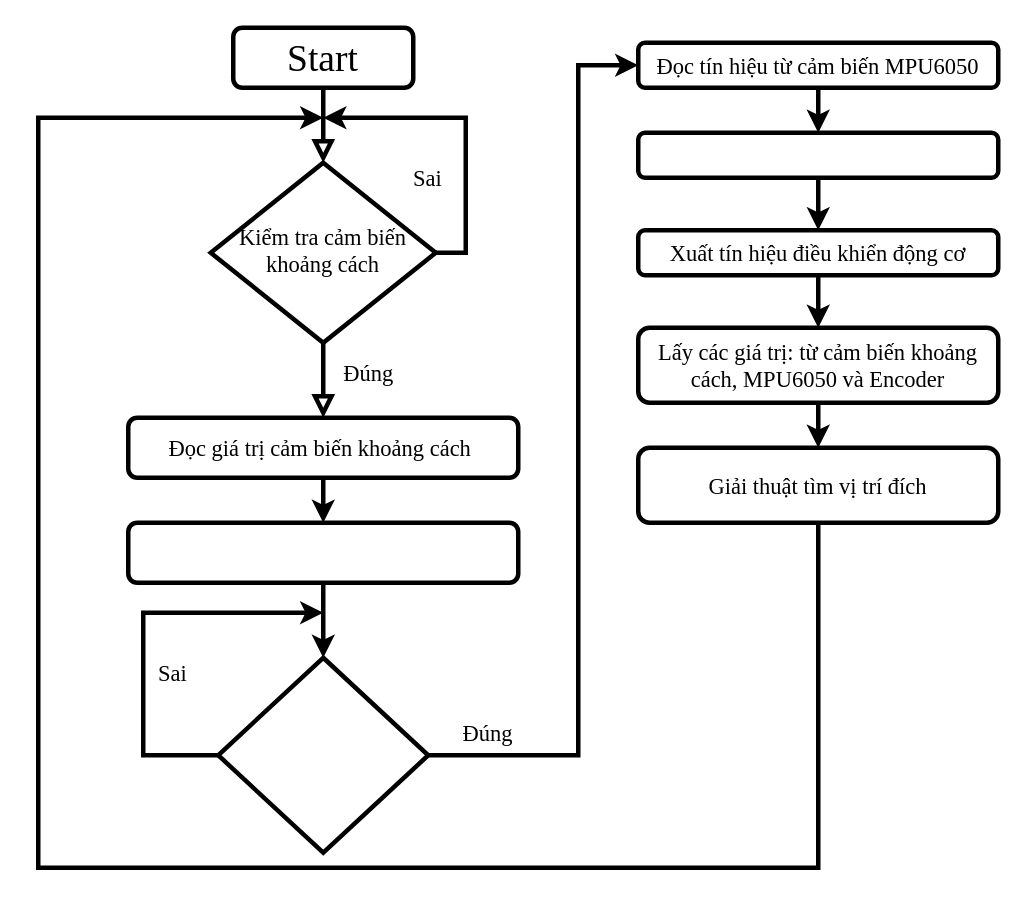
Some shapes in this 1026 by 908 pixel diagram are drawn without their labels. The shapes that lost their labels are listed below. From the top down, each one's box as (x1, y1, x2, y2) in pixels, then its label:
(635, 130, 1000, 179): Xử lý tín hiệu từ cảm biến MPU6050
(125, 520, 520, 584): Xử lý tín hiệu cảm biến khoảng cách
(215, 655, 430, 854): Kiểm tra cảm biến gia tốc MPU
